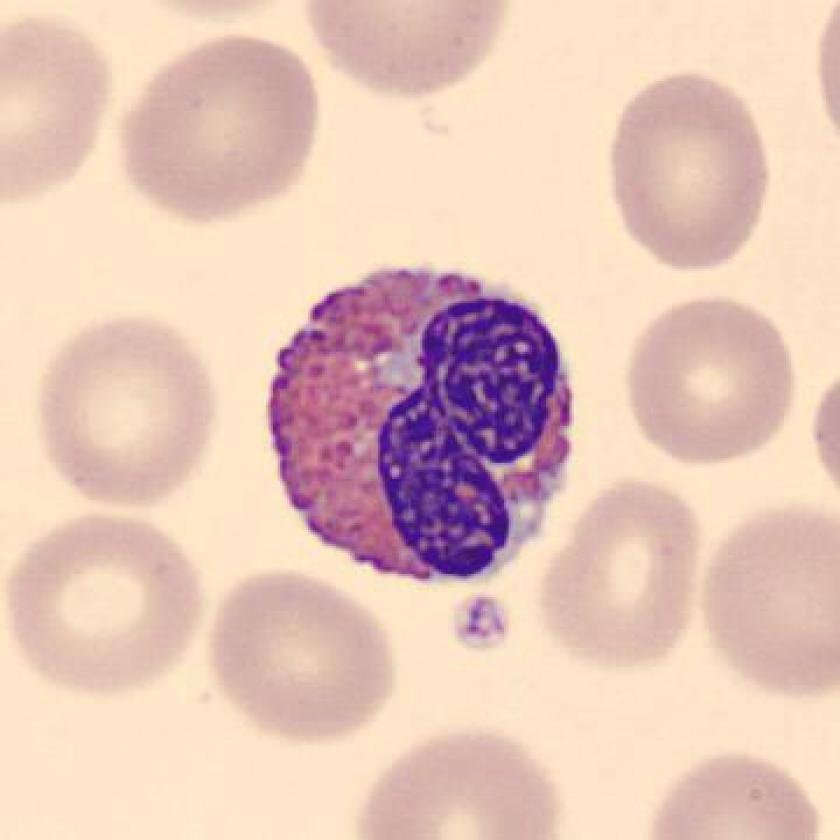eosinophil: (255, 242, 594, 600)
